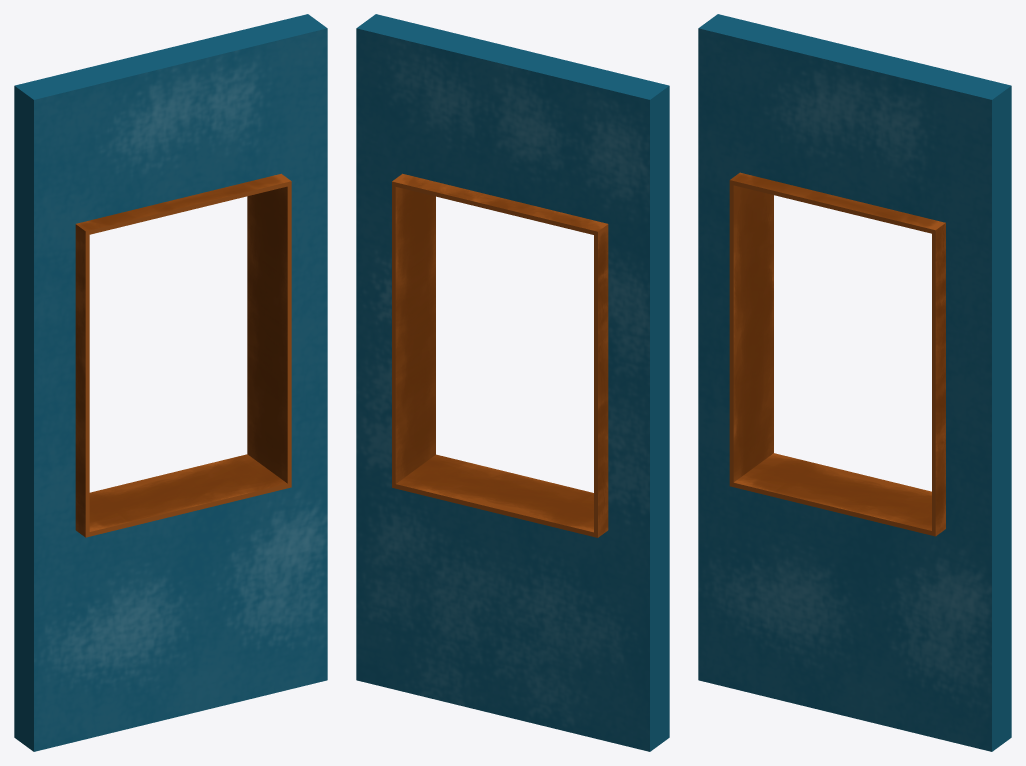
File: parede-janela.fbx
3 views of the same model, side by side, from view 1: azimuth 30°, elevation 25°; view 2: azimuth 150°, elevation 25°; view 3: azimuth 330°, elevation 25° (orthographic).
Visible parts, largest first — view 1: Cube; view 2: Cube; view 3: Cube.
Boxes of the visible parts, left/top/right/bottom form: Cube: left=14, top=14, right=327, bottom=751; Cube: left=356, top=14, right=669, bottom=751; Cube: left=698, top=14, right=1011, bottom=751.
Size of the model in its own units: 3998 by 8482 by 952.
1 material, 1 textured.
